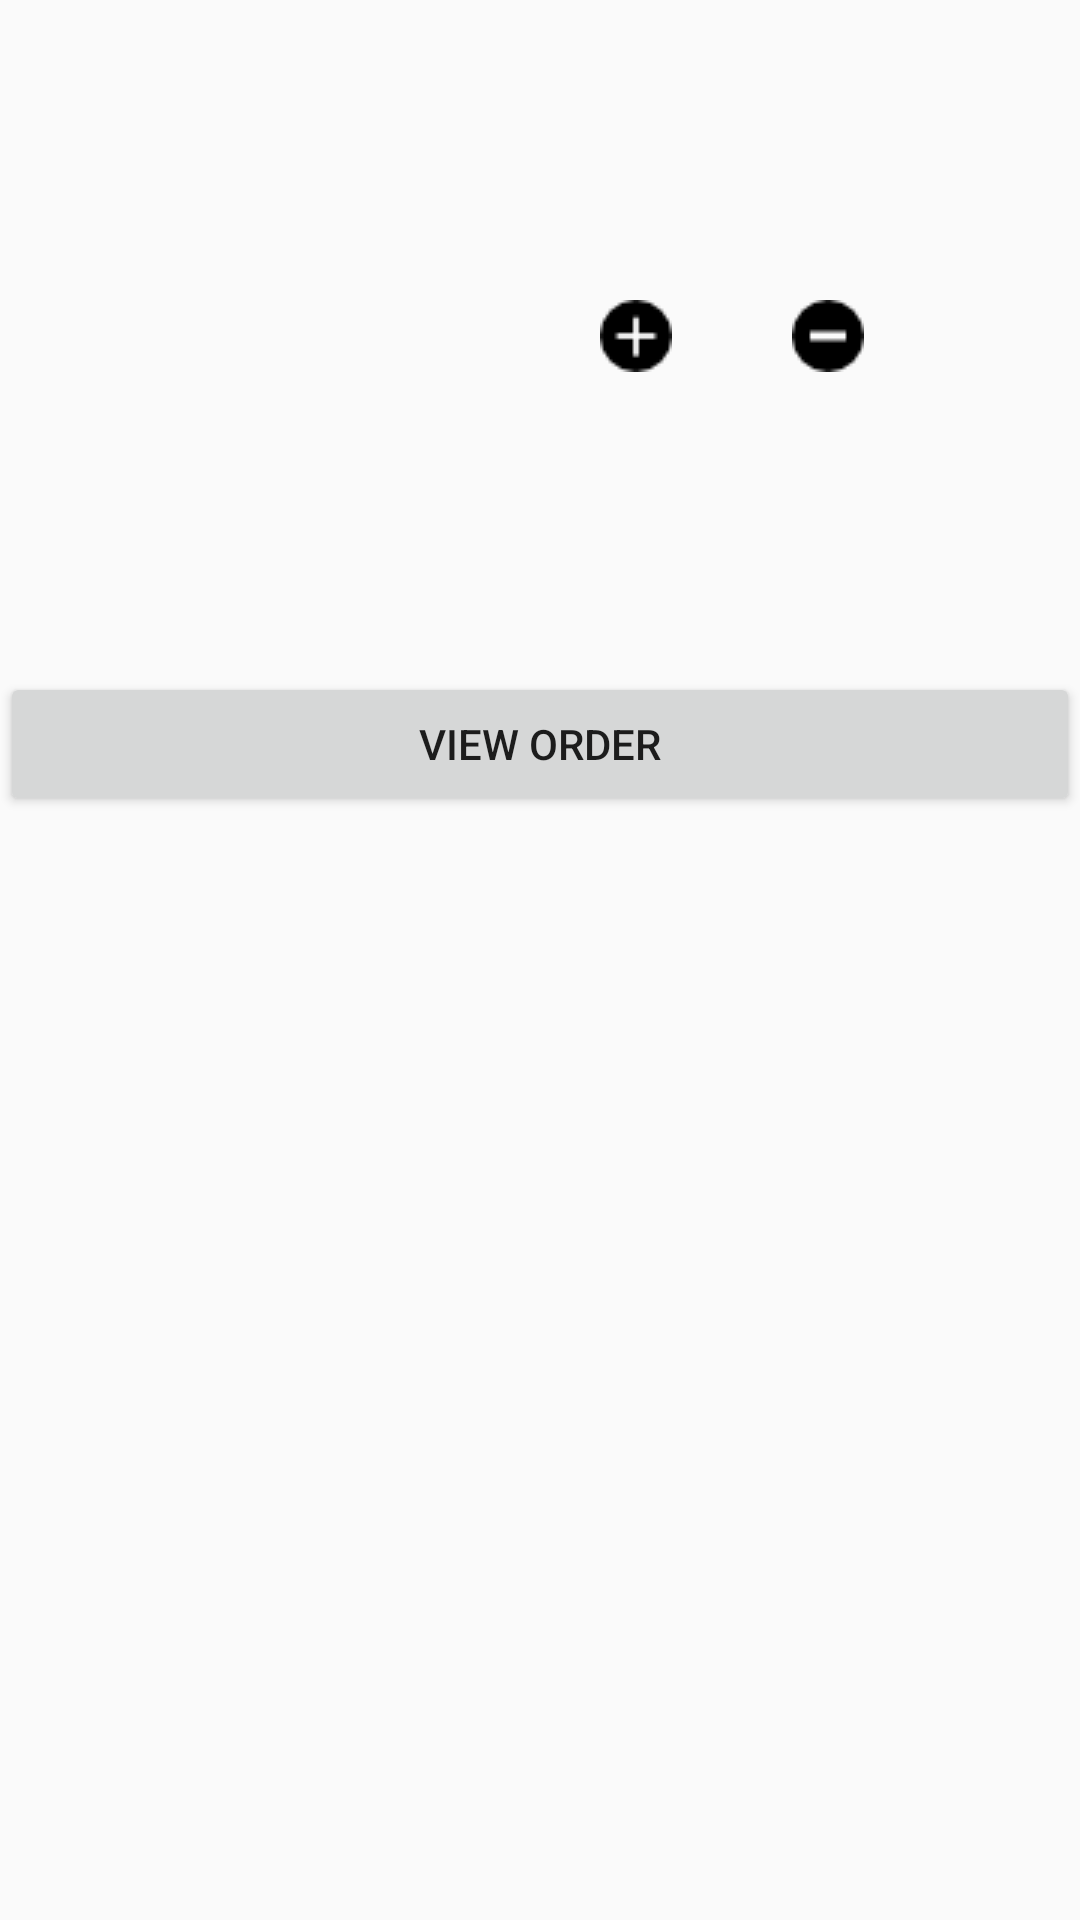

Icon bounding boxes for this 1080x1920 phone screenshot, format (x1, y1, x2, y2):
minus: (792, 300, 864, 372)
plus: (600, 300, 672, 372)
